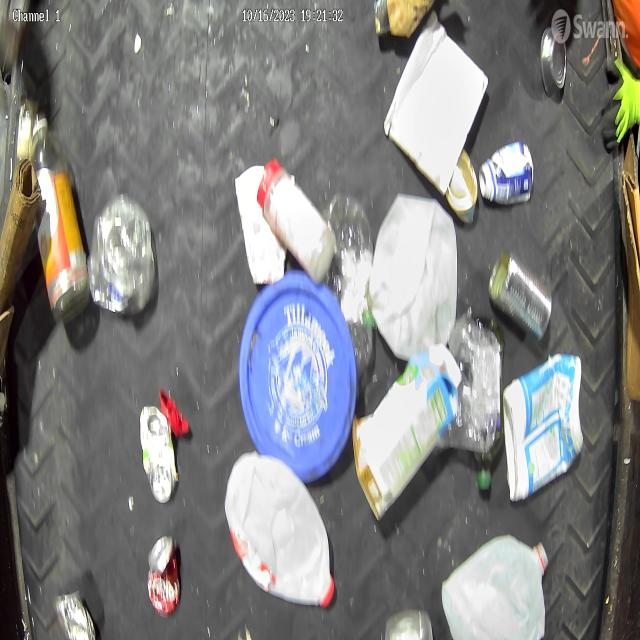can: (487, 250, 553, 342), (140, 404, 179, 504), (147, 532, 182, 616), (445, 148, 478, 225), (56, 588, 96, 640), (540, 26, 568, 98)
milk_jug: (224, 451, 336, 612), (368, 192, 458, 362), (441, 531, 548, 640)
plastic_bottle: (30, 111, 90, 324)
